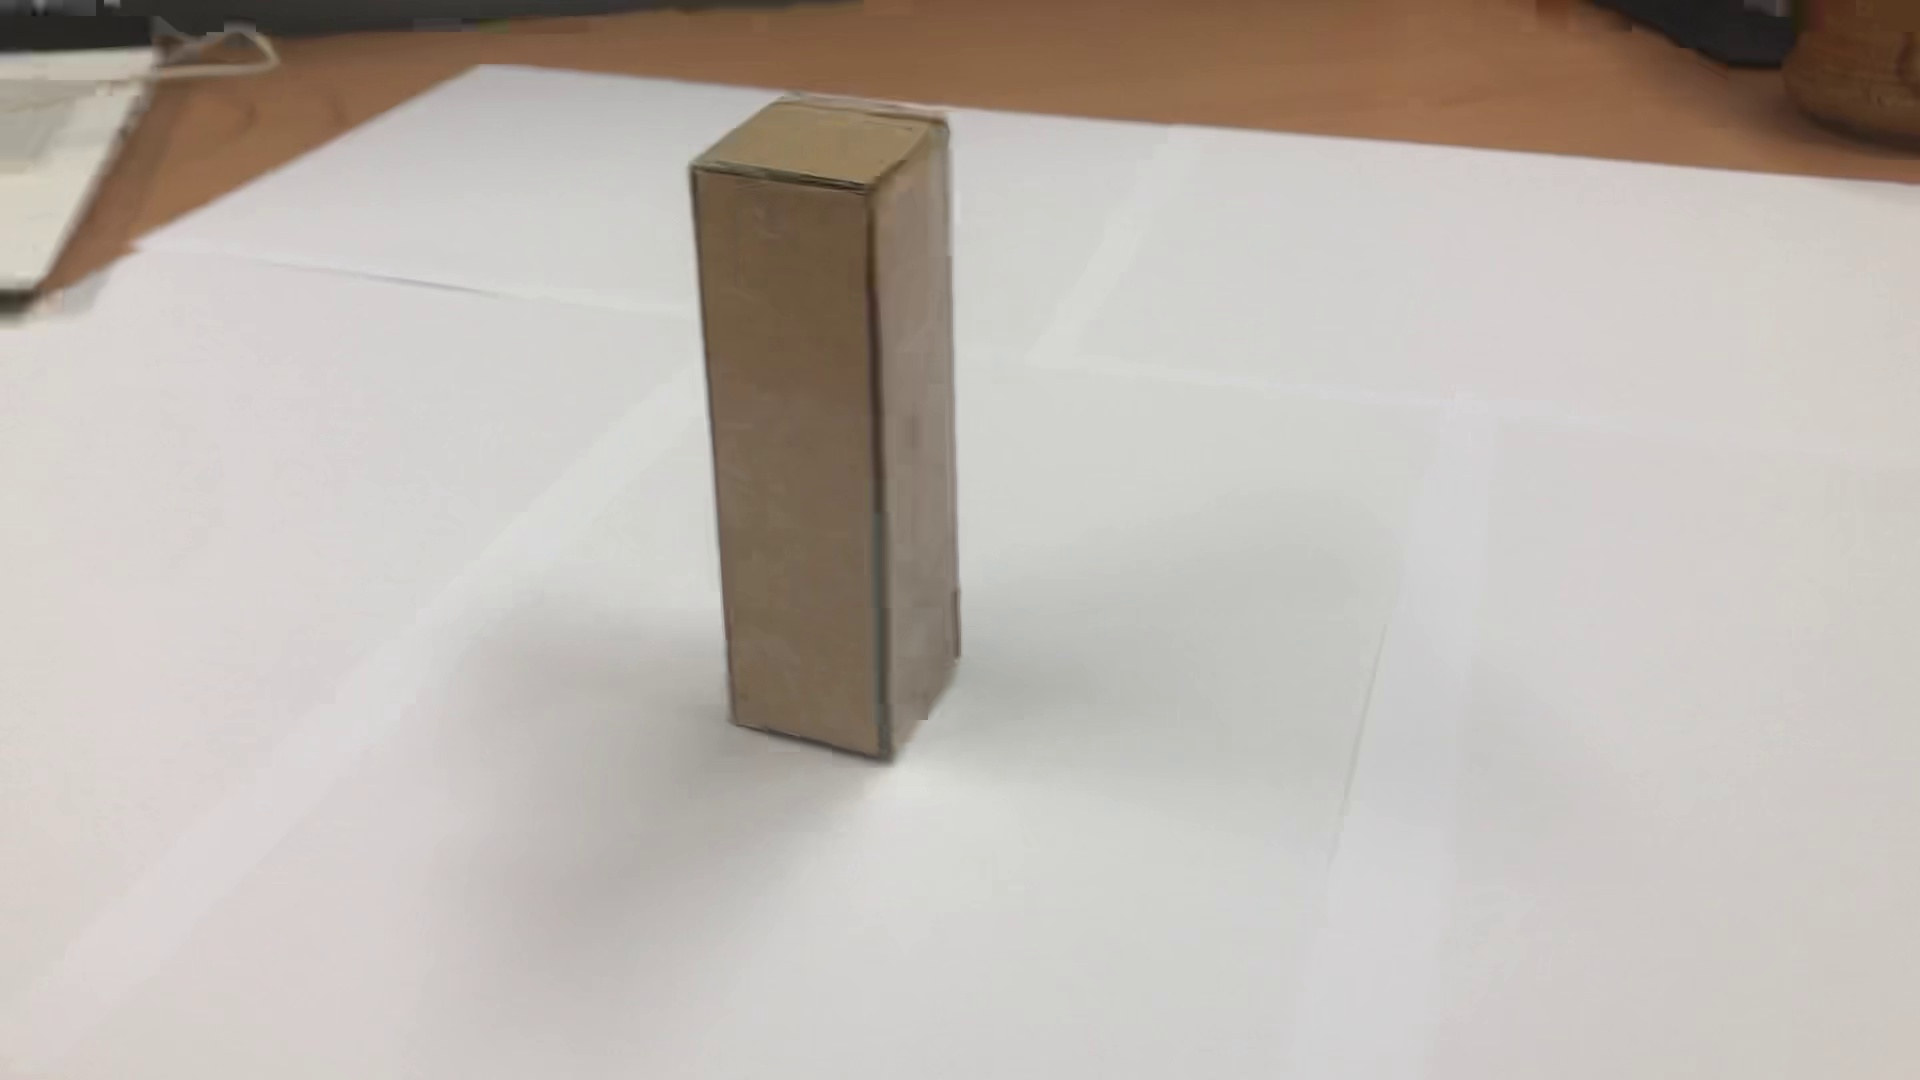box: (673, 80, 984, 764)
